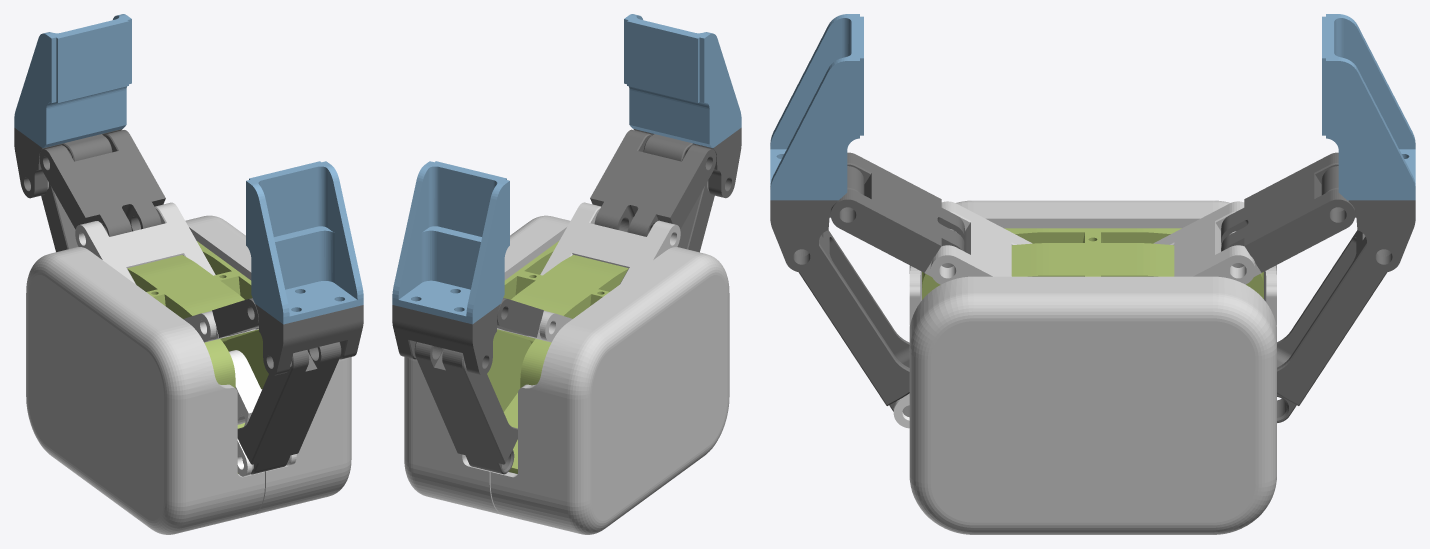
Rendered from gripper.dae.
3 views of the same model, side by side, from view 1: azimuth 30°, elevation 25°; view 2: azimuth 150°, elevation 25°; view 3: azimuth 270°, elevation 25° (orthographic). The views are drawn at different scales.
Parts seen in each view (by area): view 1: Untitled_004, Untitled_007, Untitled_003, Untitled_001, Untitled_008, Untitled_005, Untitled_010, Untitled_012, Untitled_002, Untitled_013, Untitled_011, Untitled_006 (+2 smaller); view 2: Untitled_004, Untitled_003, Untitled_007, Untitled_001, Untitled_005, Untitled_006, Untitled_009, Untitled, Untitled_013, Untitled_002, Untitled_008, Untitled_010 (+1 smaller); view 3: Untitled_001, Untitled_003, Untitled_007, Untitled_008, Untitled_006, Untitled_005, Untitled_009, Untitled_010, Untitled_004, Untitled, Untitled_012, Untitled_013 (+1 smaller).
Boxes of the visible parts, x1,y1,x2,y2 form: Untitled_004: (26, 247, 264, 534); Untitled_007: (246, 161, 363, 324); Untitled_003: (14, 14, 131, 148); Untitled_001: (185, 215, 351, 514); Untitled_008: (39, 130, 165, 236); Untitled_005: (127, 241, 268, 473); Untitled_010: (237, 342, 341, 474); Untitled_012: (75, 202, 215, 284); Untitled_002: (255, 304, 363, 375); Untitled_013: (14, 128, 122, 198); Untitled_011: (229, 350, 296, 476); Untitled_006: (212, 298, 258, 337); Untitled_004: (490, 247, 729, 534); Untitled_003: (392, 161, 509, 324); Untitled_007: (624, 14, 741, 148); Untitled_001: (404, 215, 570, 515); Untitled_005: (487, 241, 628, 473); Untitled_006: (590, 129, 716, 236); Untitled_009: (414, 342, 517, 474); Untitled: (540, 202, 680, 284); Untitled_013: (392, 304, 500, 375); Untitled_002: (633, 127, 741, 198); Untitled_008: (497, 298, 543, 337); Untitled_010: (677, 180, 714, 252); Untitled_001: (909, 276, 1276, 534); Untitled_003: (1322, 14, 1415, 200); Untitled_007: (770, 14, 863, 200); Untitled_008: (1221, 152, 1355, 272); Untitled_006: (830, 152, 964, 272); Untitled_005: (922, 228, 1263, 299); Untitled_009: (1277, 230, 1390, 422); Untitled_010: (795, 230, 909, 417); Untitled_004: (909, 200, 1276, 324); Untitled: (924, 201, 1032, 284); Untitled_012: (1153, 201, 1261, 284); Untitled_013: (1321, 166, 1415, 272).
Bounding box in the file's own units: 0.06 × 0.151 × 0.1163.
